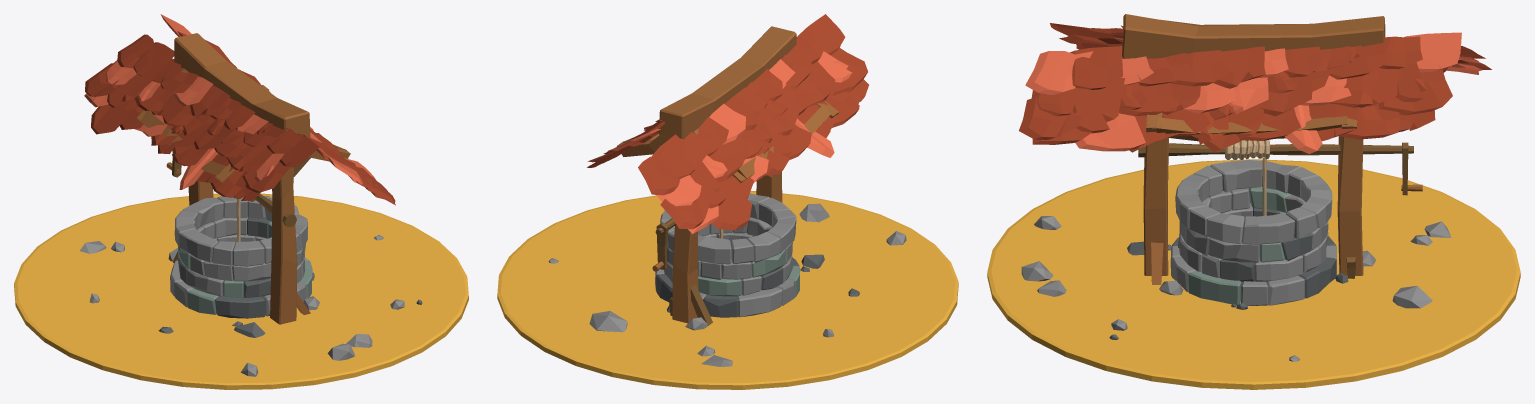
Rendered from puits.glb.
3 views of the same model, side by side, from view 1: azimuth 30°, elevation 25°; view 2: azimuth 150°, elevation 25°; view 3: azimuth 270°, elevation 25° (orthographic). The views are drawn at different scales.
Parts seen in each view (by area): view 1: Cylinder.004, Plane.023, Cube.003, Cube.006, Cube.005, Cube.002, Cube, Cube.001, Plane.000, Cube.016, Cube.004; view 2: Cylinder.004, Plane.023, Cube.006, Cube.003, Cube, Cube.002, Cube.004, Cube.001, Plane.000, Cube.016, Icosphere.013, Cube.005 (+4 smaller); view 3: Cylinder.004, Plane.000, Cube.003, Cube.006, Cube, Cube.002, Cube.001, Cube.004, Cube.005, Plane.023, Cylinder, Cube.015 (+4 smaller).
Part boxes in pixels (x1,y1,x2,y2): Cylinder.004: (14,193,468,389); Plane.023: (84,34,319,200); Cube.003: (174,196,307,266); Cube.006: (174,33,310,137); Cube.005: (270,167,297,324); Cube.002: (178,217,305,281); Cube: (170,258,312,318); Cube.001: (178,234,305,297); Plane.000: (160,14,395,205); Cube.016: (141,110,227,175); Cube.004: (187,166,213,205); Cylinder.004: (497,191,958,389); Plane.023: (638,14,868,233); Cube.006: (659,26,796,139); Cube.003: (660,193,796,264); Cube: (655,258,800,317); Cube.002: (667,217,792,279); Cube.004: (672,224,698,323); Cube.001: (664,232,792,296); Plane.000: (587,119,664,167); Cube.016: (737,105,830,178); Icosphere.013: (589,311,627,332); Cube.005: (756,172,782,202); Cylinder.004: (987,159,1520,389); Plane.000: (1019,32,1461,153); Cube.003: (1175,160,1332,244); Cube.006: (1122,14,1385,58); Cube: (1170,236,1336,305); Cube.002: (1179,186,1328,262); Cube.001: (1178,203,1328,281); Cube.004: (1337,136,1363,275); Cube.005: (1143,138,1168,275); Plane.023: (1050,23,1491,74); Cylinder: (1138,143,1413,157); Cube.015: (1156,116,1347,141).
Bounding box in the file's own units: 44.98 × 26.25 × 44.98.
